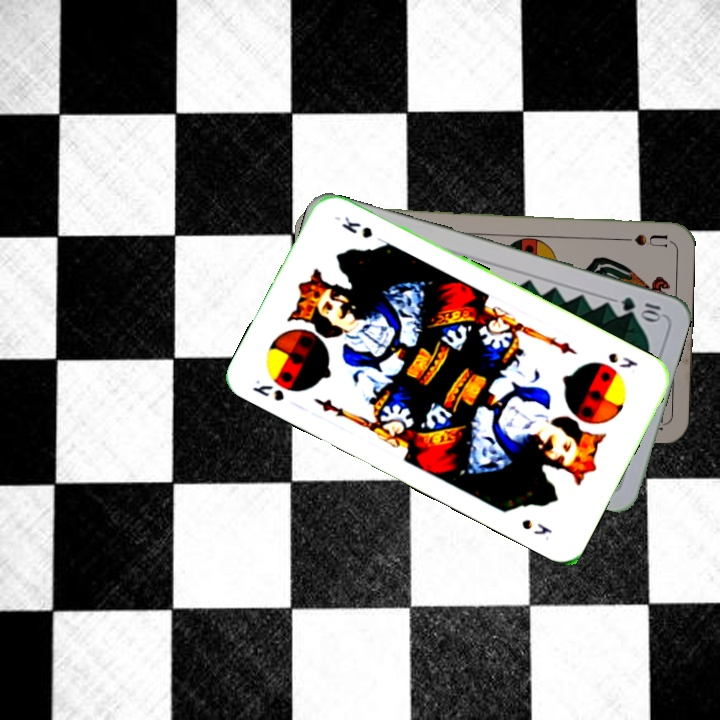G10: (617, 292, 665, 323)
SK: (248, 375, 287, 404), (604, 348, 640, 371)
SU: (610, 230, 669, 249)
